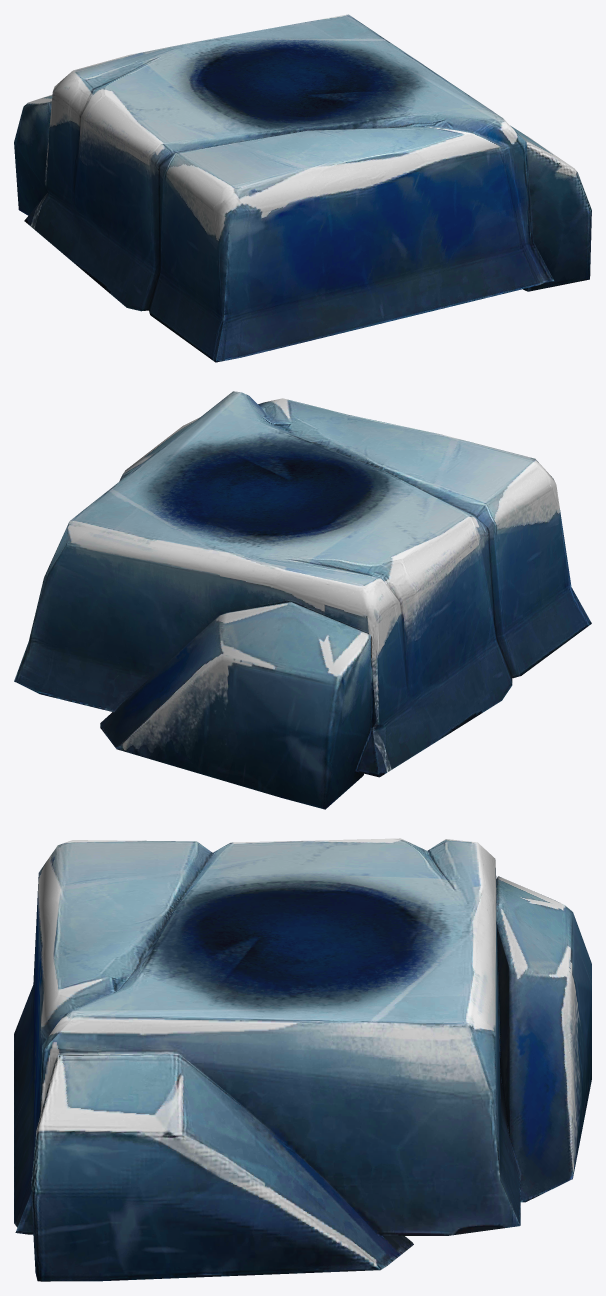
Rendered from trap_264_xdplat.fbx.
The picture shows the model from 3 angles, top to bottom: view 1: azimuth 30°, elevation 25°; view 2: azimuth 150°, elevation 25°; view 3: azimuth 270°, elevation 25°; orthographic projection. The views are drawn at different scales.
Visible parts, largest first — view 1: trap_264_xdplat; view 2: trap_264_xdplat; view 3: trap_264_xdplat.
Part boxes in pixels (x1,y1,x2,y2): trap_264_xdplat: (14, 14, 591, 362); trap_264_xdplat: (14, 391, 591, 809); trap_264_xdplat: (14, 838, 591, 1281).
Bounding box in the file's own units: 1.02 × 0.4347 × 1.02.
2 materials, 2 textured.
